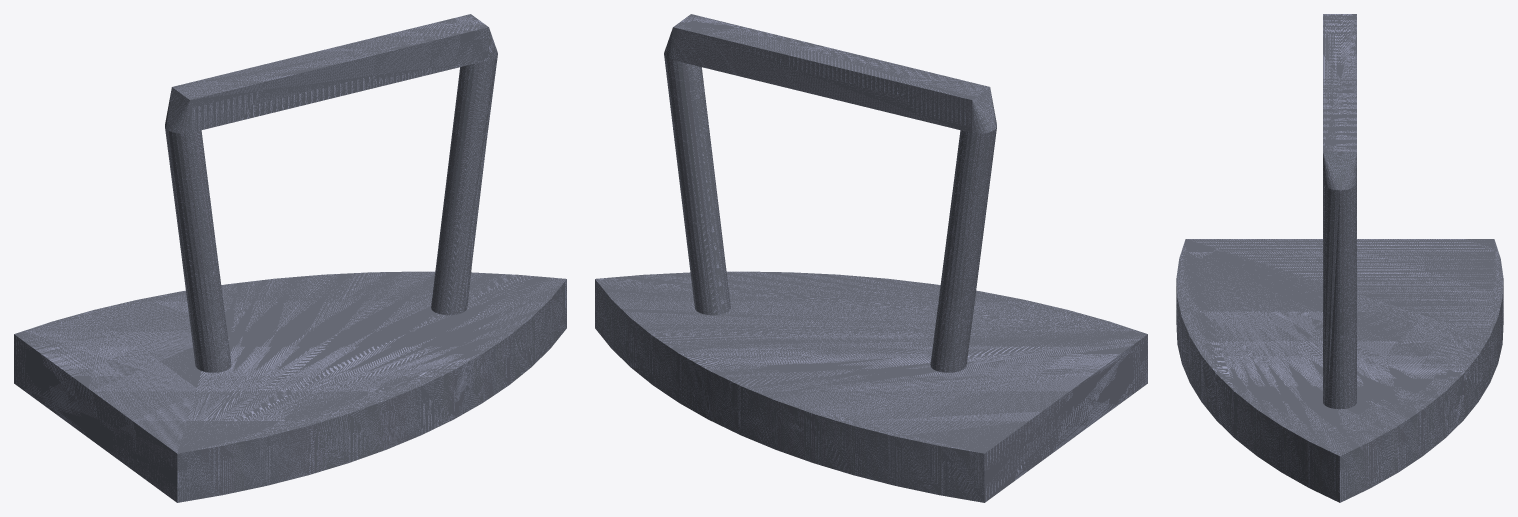
File: Iron.fbx
The picture shows the model from 3 angles, left to right: view 1: azimuth 30°, elevation 25°; view 2: azimuth 150°, elevation 25°; view 3: azimuth 270°, elevation 25°; orthographic projection. The views are drawn at different scales.
Parts seen in each view (by area): view 1: Iron1; view 2: Iron1; view 3: Iron1.
Boxes of the visible parts, <box> form: Iron1: <box>14,14,566,502</box>; Iron1: <box>595,14,1147,502</box>; Iron1: <box>1176,14,1503,502</box>.
Bounding box in the file's own units: 0.0334 × 0.0223 × 0.0212.
